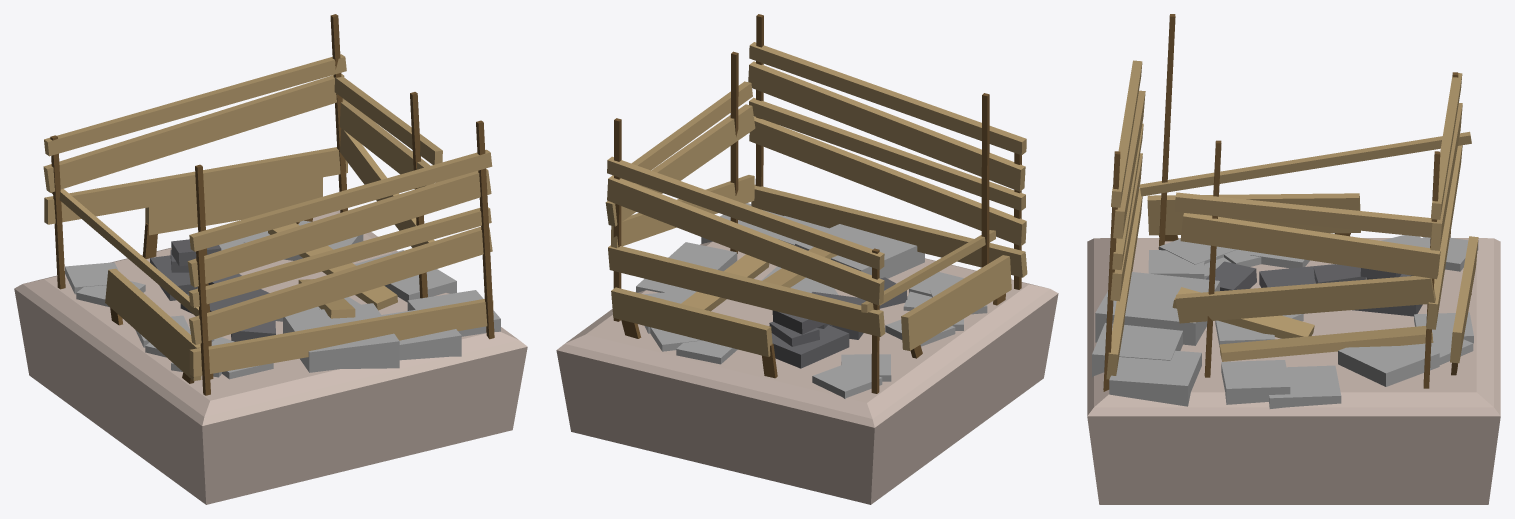
Rendered from ConstructionSite4.fbx.
3 renders of one model, left to right at view 1: azimuth 30°, elevation 25°; view 2: azimuth 150°, elevation 25°; view 3: azimuth 270°, elevation 25°, orthographic. The views are drawn at different scales.
Visible parts, largest first — view 1: ConstructionSite7; view 2: ConstructionSite7; view 3: ConstructionSite7.
Part boxes in pixels (x1=…): ConstructionSite7: x1=14, y1=14, x2=527, y2=504; ConstructionSite7: x1=556, y1=14, x2=1058, y2=504; ConstructionSite7: x1=1087, y1=14, x2=1500, y2=504.
Bounding box in the file's own units: 4 × 3.62 × 4.
